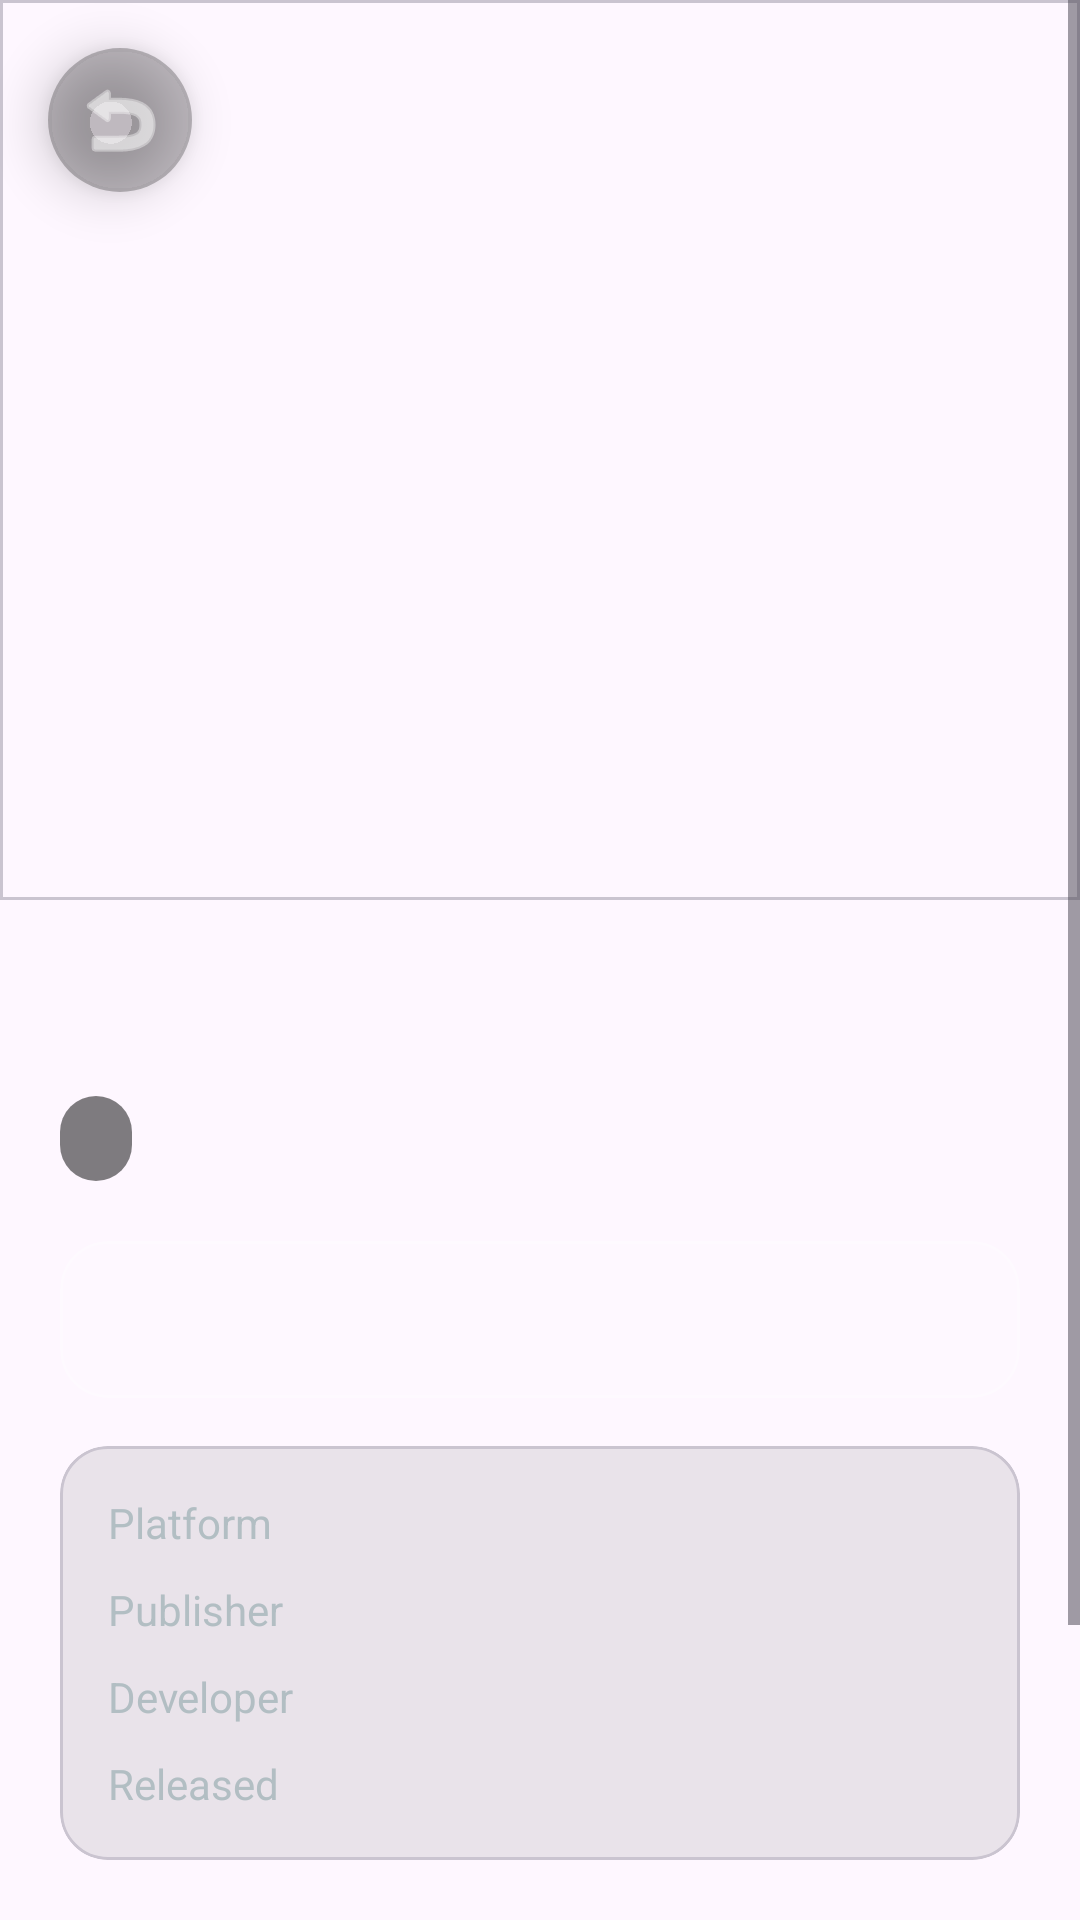

Icon bounding boxes for this 1080w x 1920h phone screenshot, format [x1=x1, y1=y1, x2=x2, y2=y2]:
button go back: [x1=48, y1=48, x2=192, y2=192]
